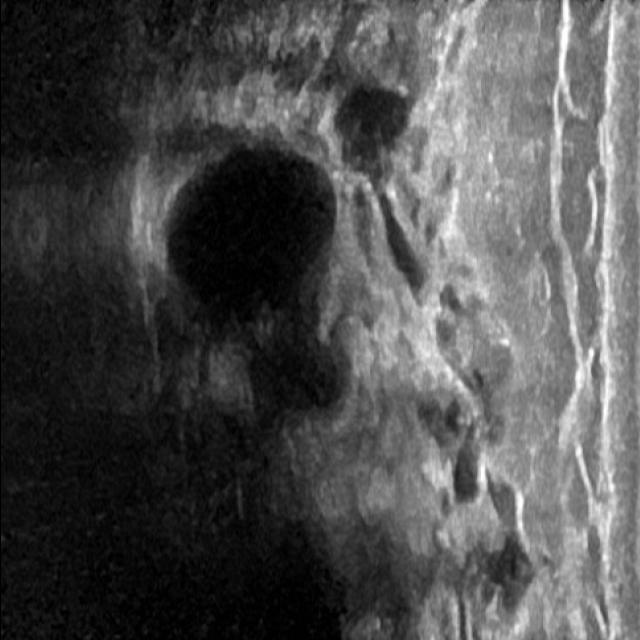Benign: (160, 162, 342, 330)
